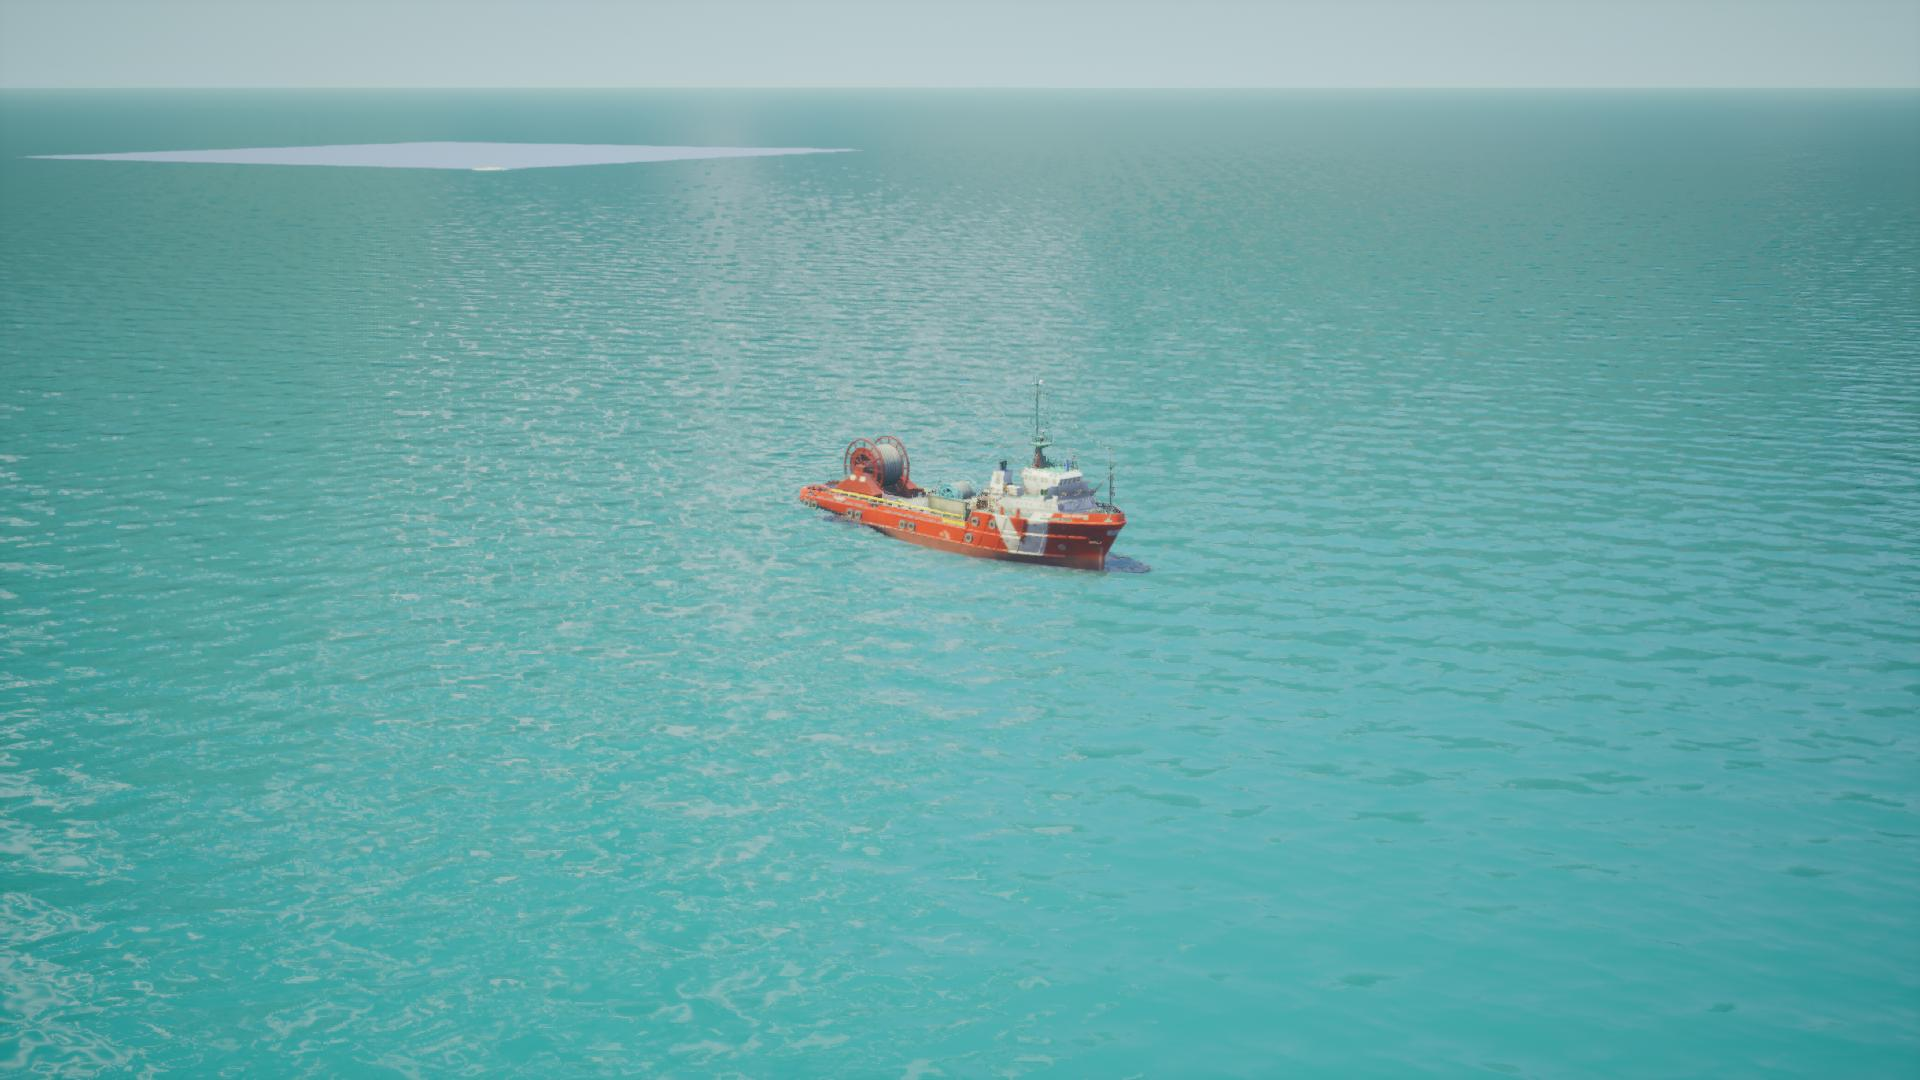Tug Boat: (798, 422, 1138, 576)
